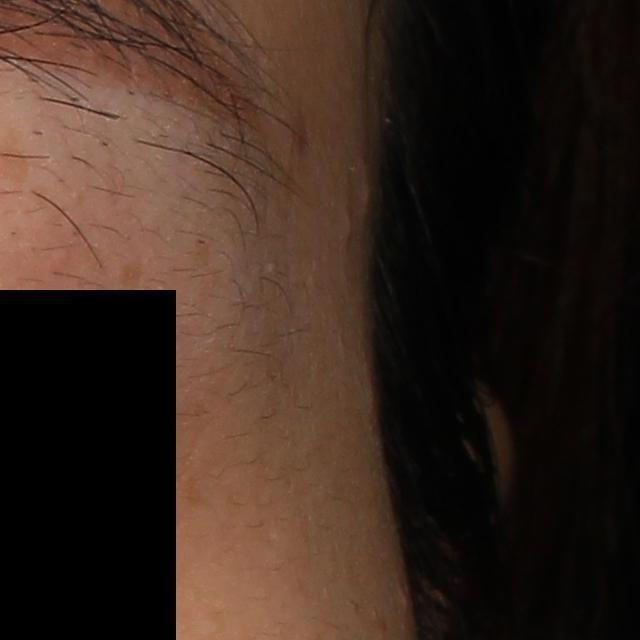melasma: (114, 254, 148, 299)
